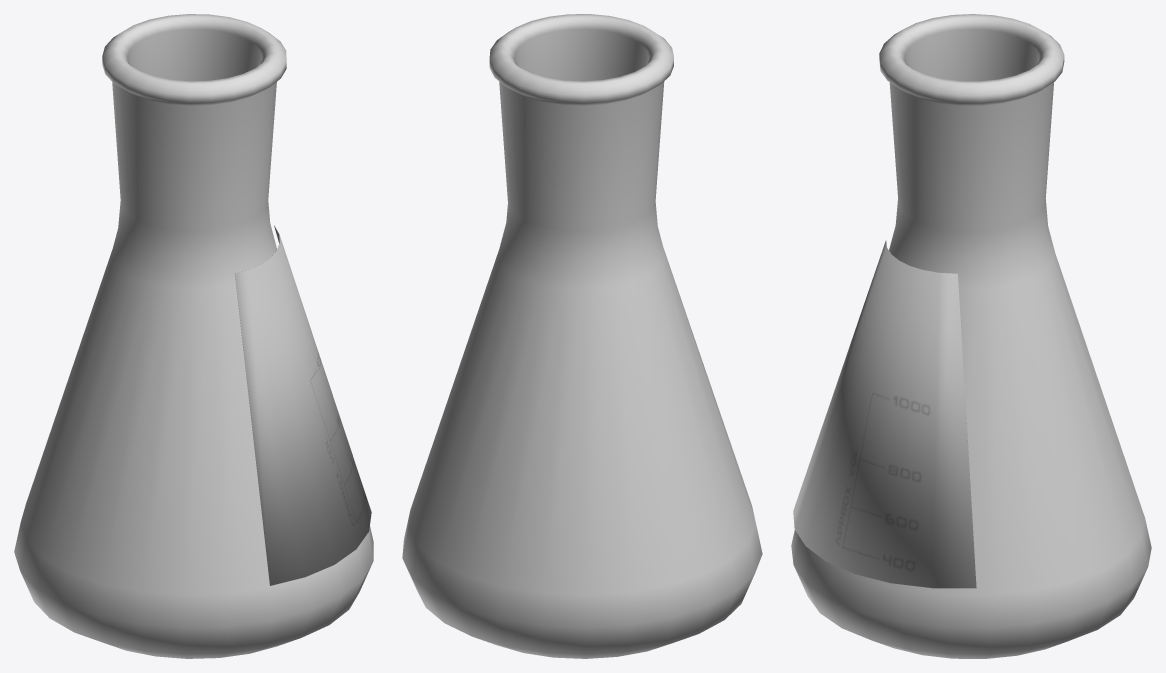
The model's file is Erenmeyer.fbx.
3 renders of one model, left to right at view 1: azimuth 30°, elevation 25°; view 2: azimuth 150°, elevation 25°; view 3: azimuth 270°, elevation 25°, orthographic.
Parts seen in each view (by area): view 1: erenmeyer, skala erenmeyer; view 2: erenmeyer; view 3: erenmeyer, skala erenmeyer.
Boxes of the visible parts, x1,y1,x2,y2 form: erenmeyer: [14, 14, 373, 658]; skala erenmeyer: [235, 225, 371, 585]; erenmeyer: [402, 14, 762, 658]; erenmeyer: [791, 14, 1151, 658]; skala erenmeyer: [793, 240, 976, 588].
Bounding box in the file's own units: 0.0932 × 0.1608 × 0.0933.
2 materials, 1 textured.
